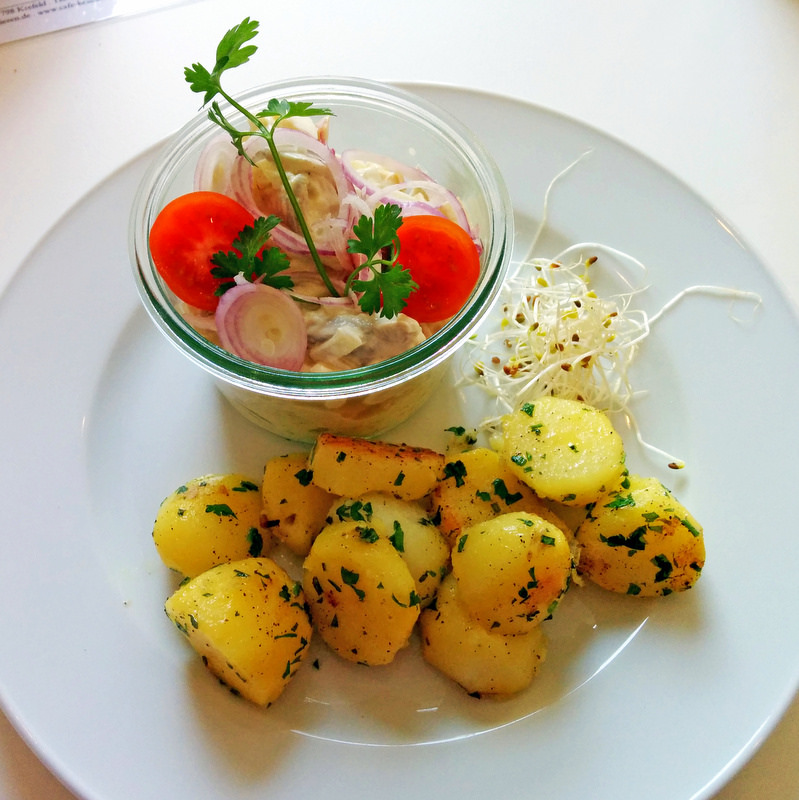boiled potatoes: (179, 504, 711, 588)
